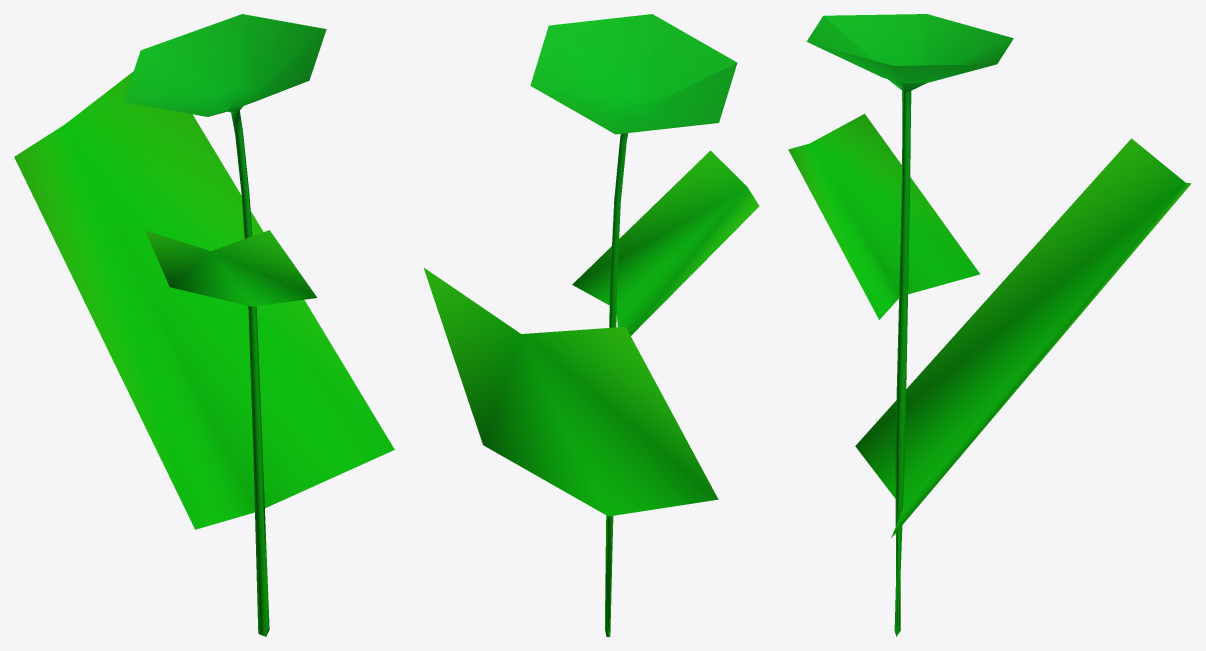
File: daisy.fbx
The picture shows the model from 3 angles, left to right: view 1: azimuth 30°, elevation 25°; view 2: azimuth 150°, elevation 25°; view 3: azimuth 270°, elevation 25°; orthographic projection.
Parts seen in each view (by area): view 1: tree; view 2: tree; view 3: tree.
Boxes of the visible parts, x1=… form: tree: x1=14, y1=14, x2=394, y2=636; tree: x1=424, y1=14, x2=759, y2=636; tree: x1=788, y1=14, x2=1191, y2=636.
Bounding box in the file's own units: 75.89 × 164 × 100.
